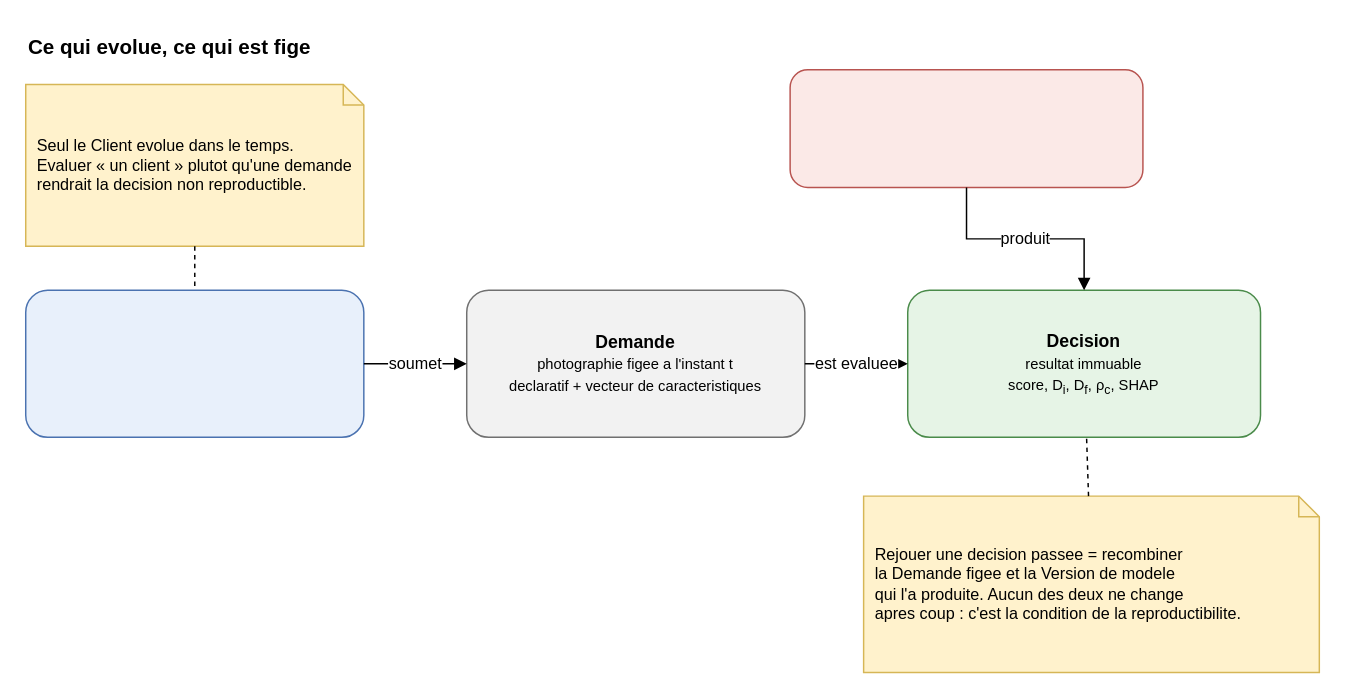
Some shapes in this 1345 by 698 pixel diagram are drawn without their labels. Here are the shapes that lost their labels. From the top down, the centre of each, then its label:
At point 966,127: "Version de modele artefacts figes".
At point 194,363: "Client entite evolutive revenu, adresse, historique changent".
